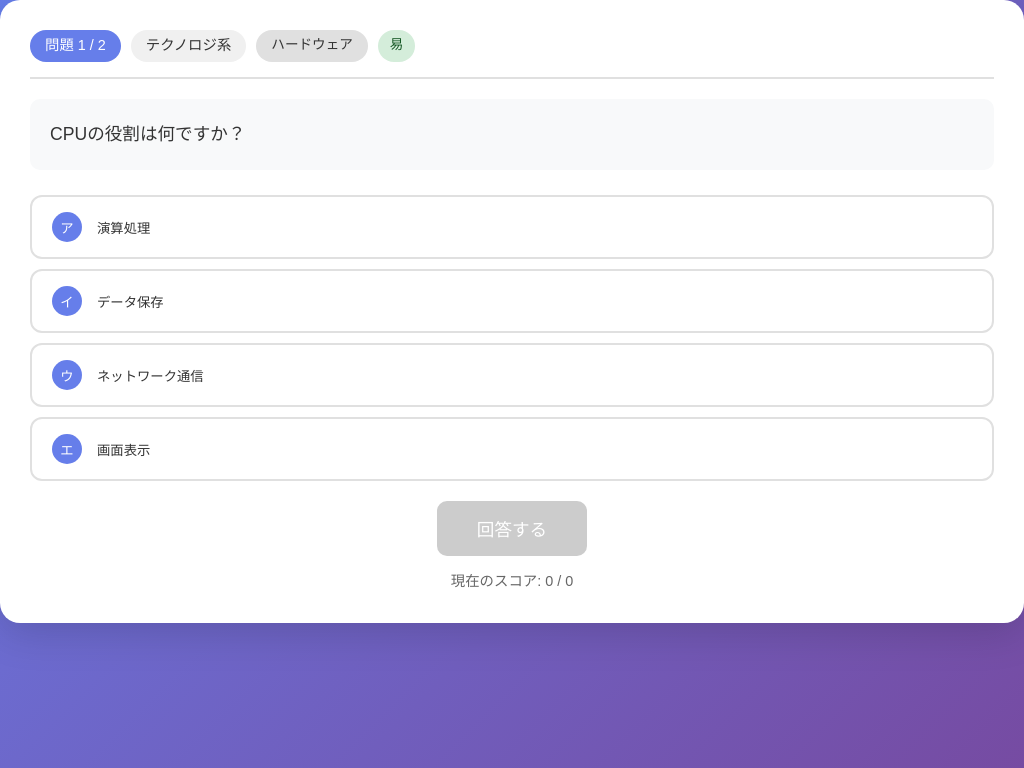
Test: Quiz › answer submission › should show incorrect feedback for wrong answer
expect the text "データ保存" is shown: met, box 97,295 -> 164,310
Click the button "イ データ保存" at (130,302), box 30,269 -> 994,333
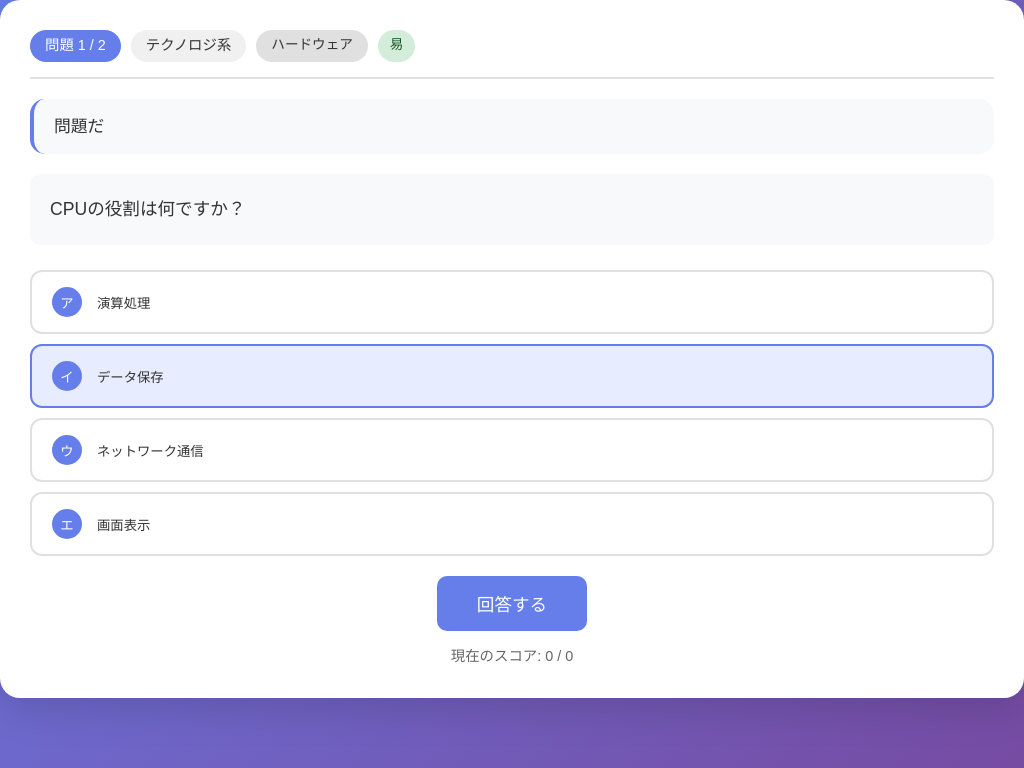
Click the button "回答する" at (512,604), box 437,576 -> 587,632
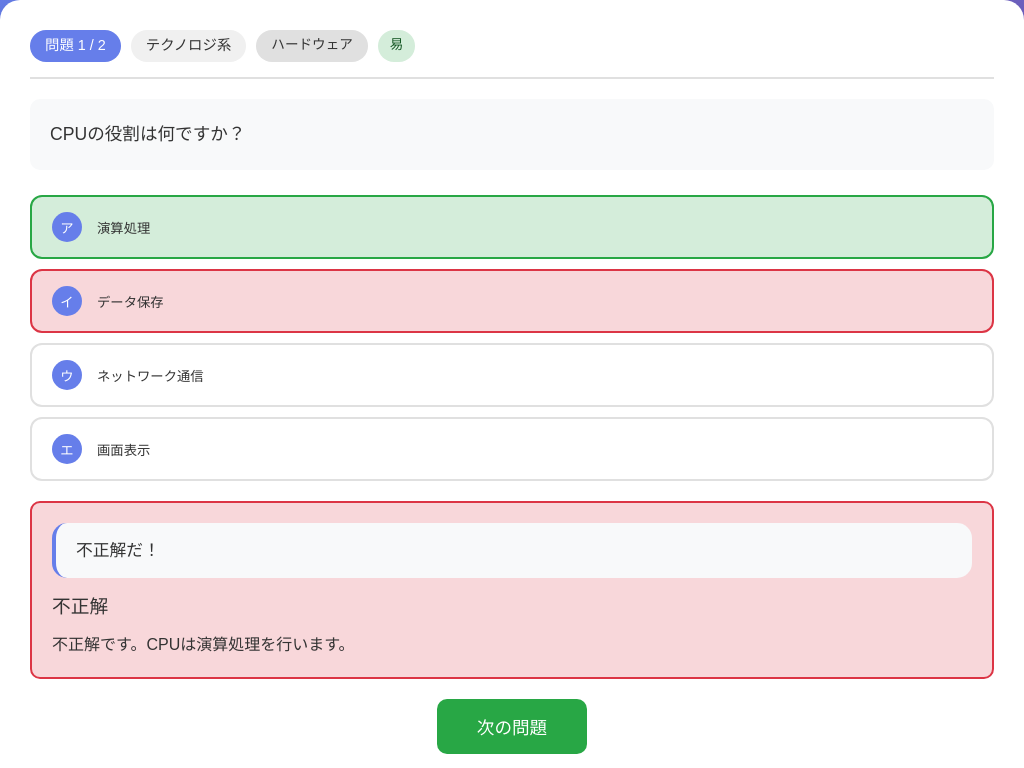
expect the heading "不正解" is shown: met, box 52,596 -> 108,618
